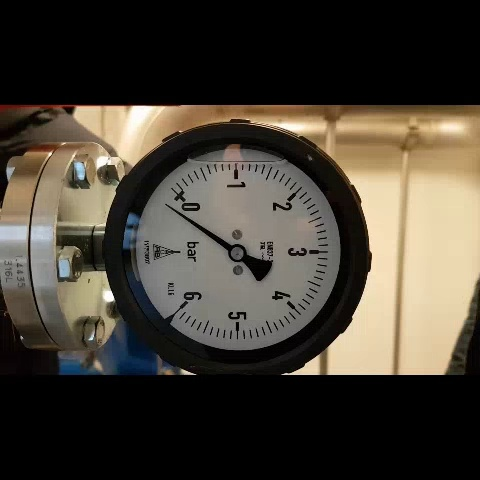Round_Meter: (130, 141, 340, 357)
